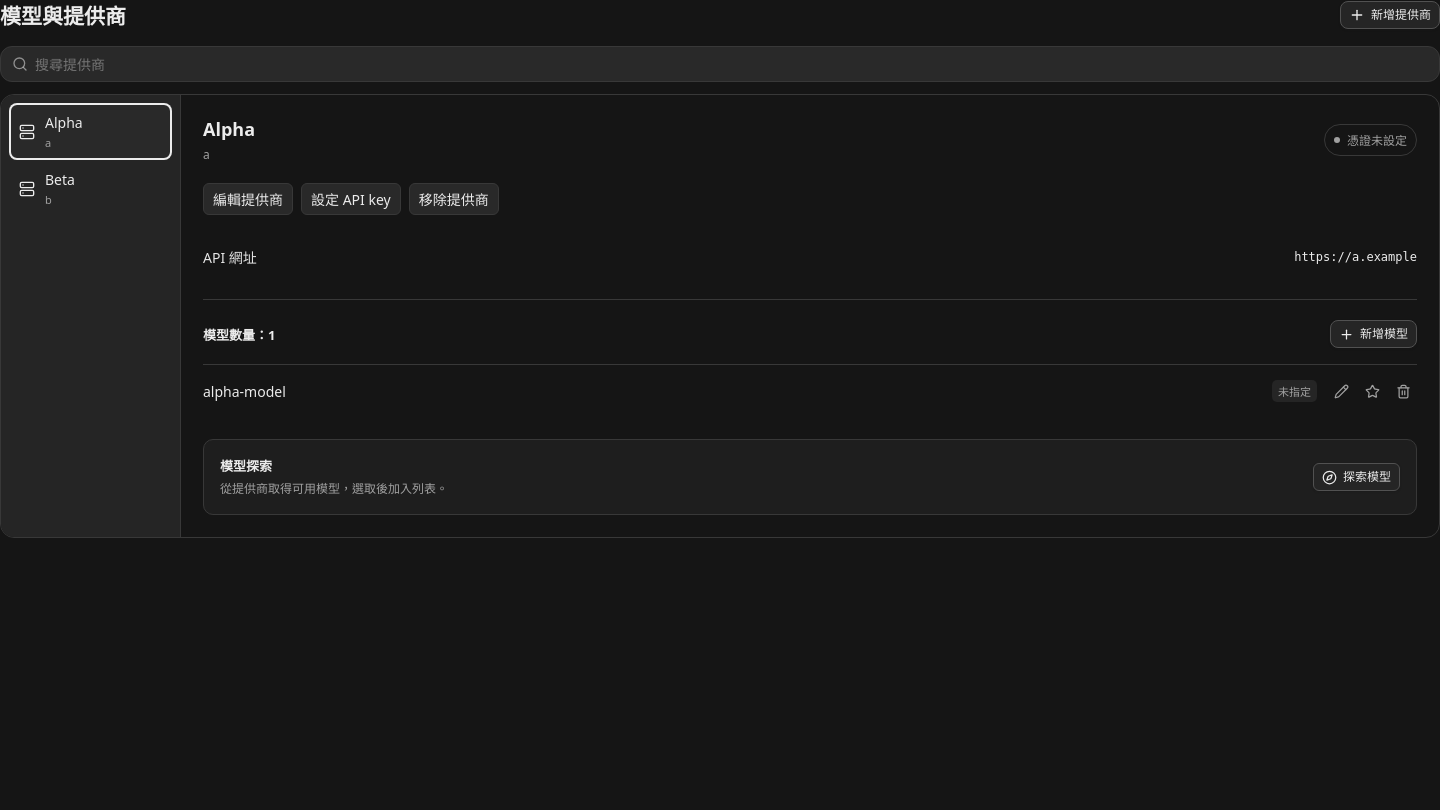
Test: shows one provider at a time and scopes connection drafts to that provider
Expected: the button "Alpha a" is shown, [9,103,172,160]
Expected: the text "beta-model" is not shown
Click the button "編輯提供商".
click(248, 199)  # box [203,183,293,215]
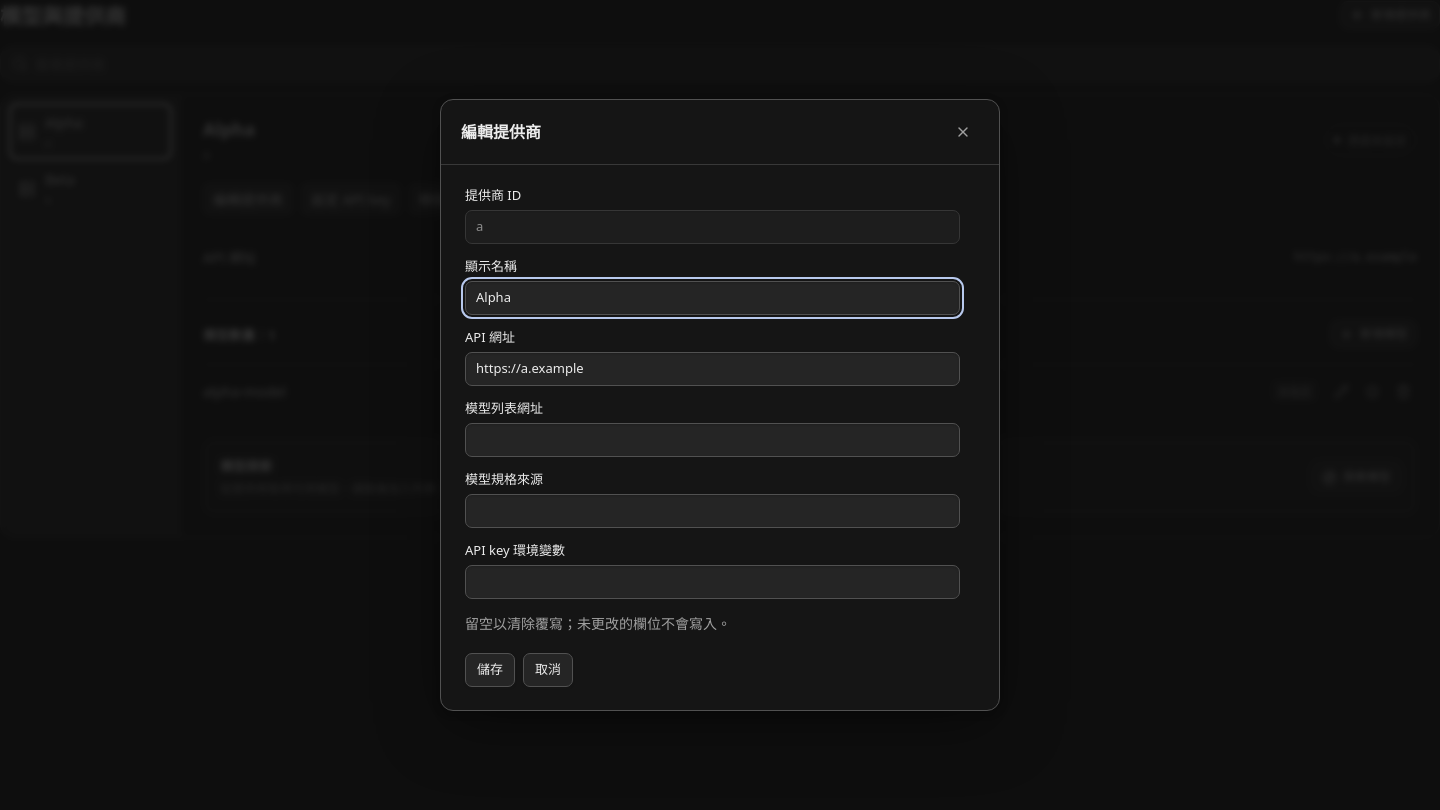
Replace the text in the field labelled "API 網址" with "https://draft.example" at (712, 368), box [465,352,960,386]
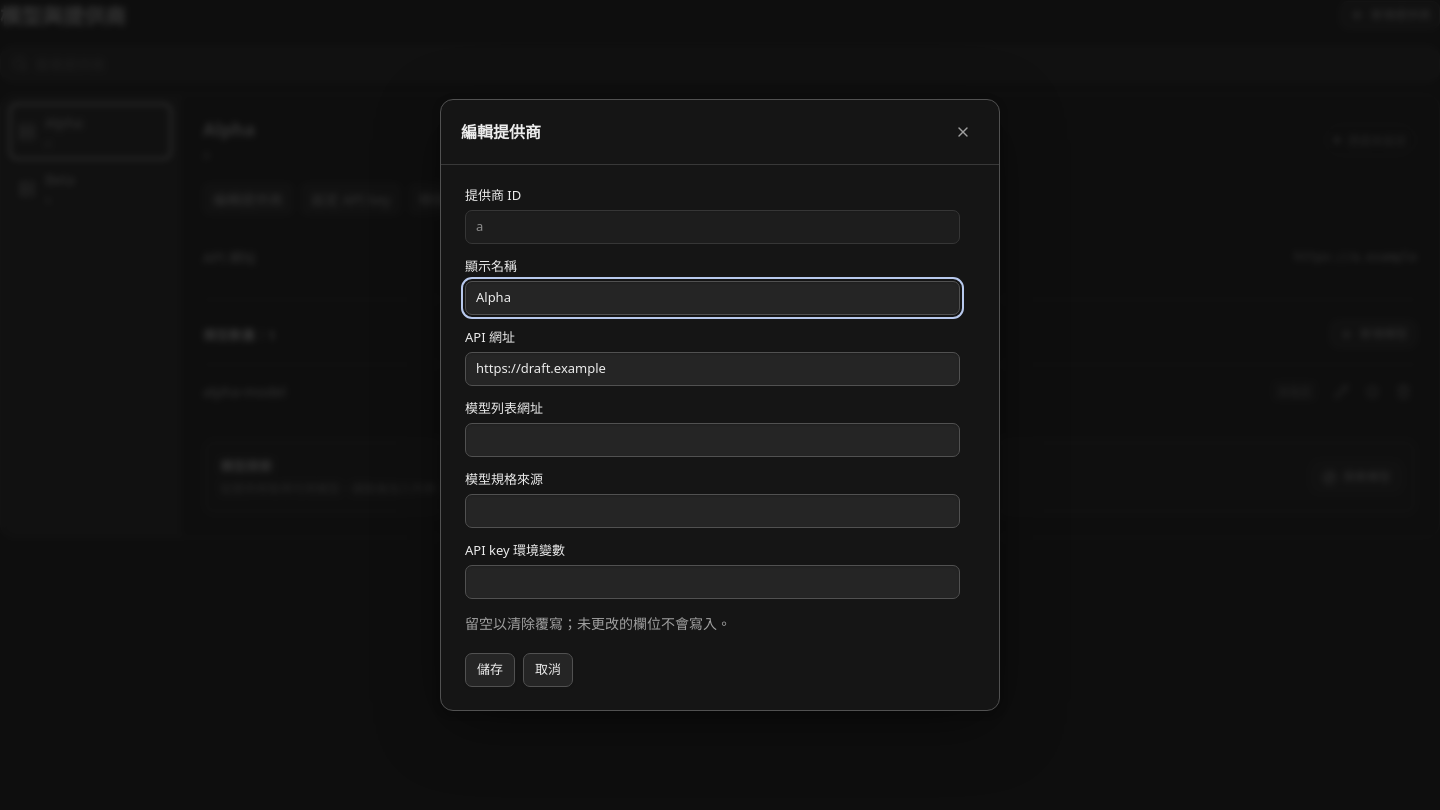
Click the button named "關閉對話框".
click(963, 132)  # box [947,116,979,148]
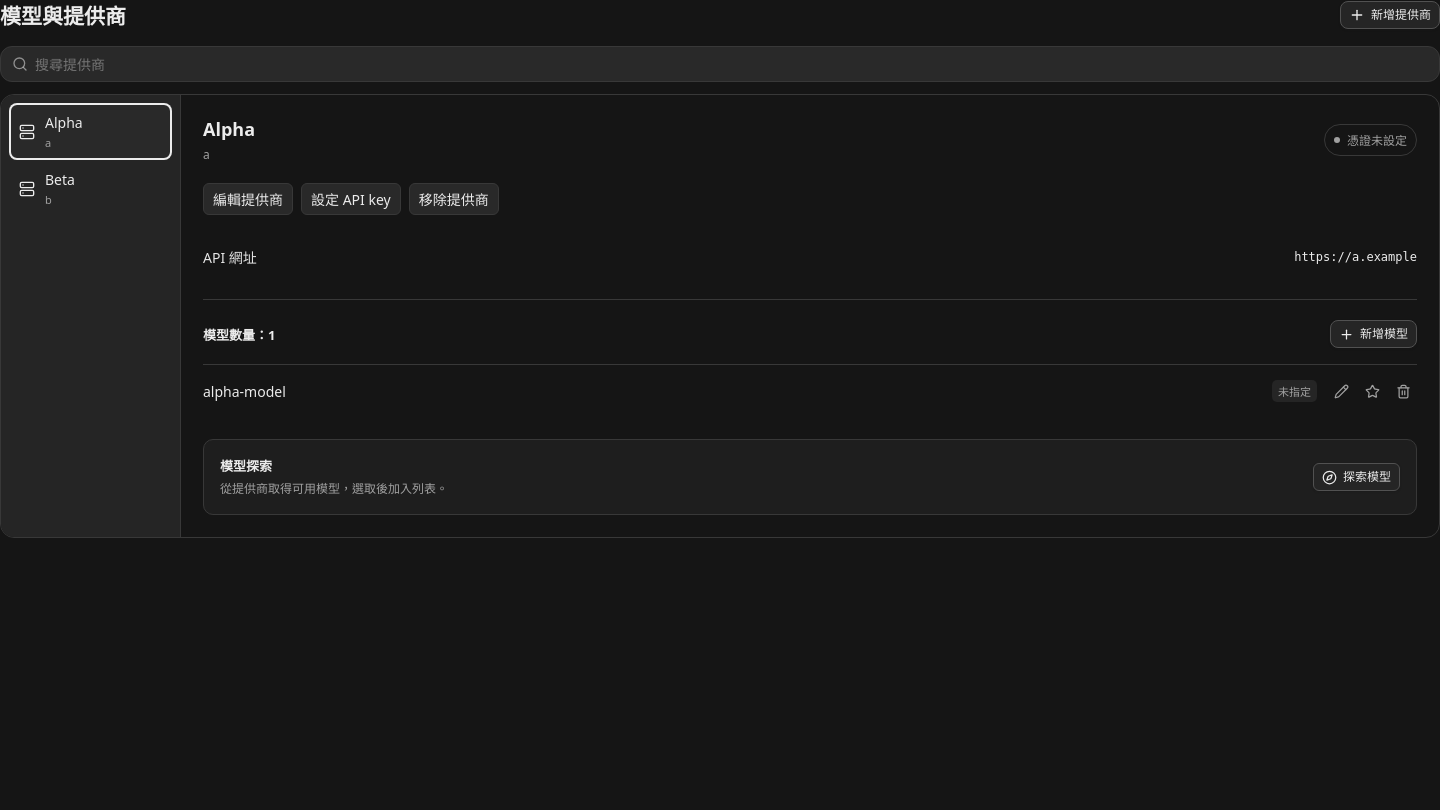
Click the button "Beta b".
click(90, 188)  # box [9,160,172,217]
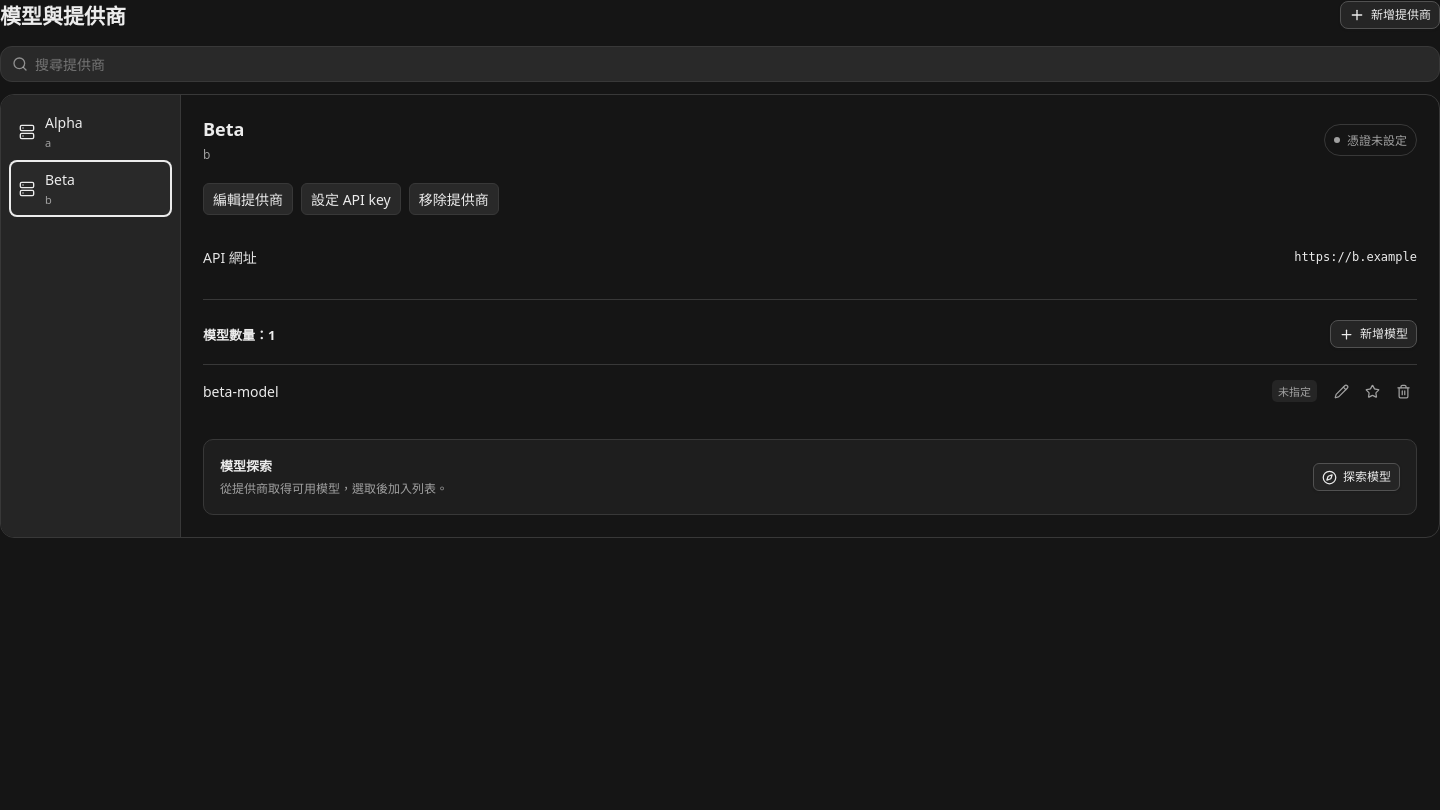
Click the button "編輯提供商".
click(248, 199)  # box [203,183,293,215]
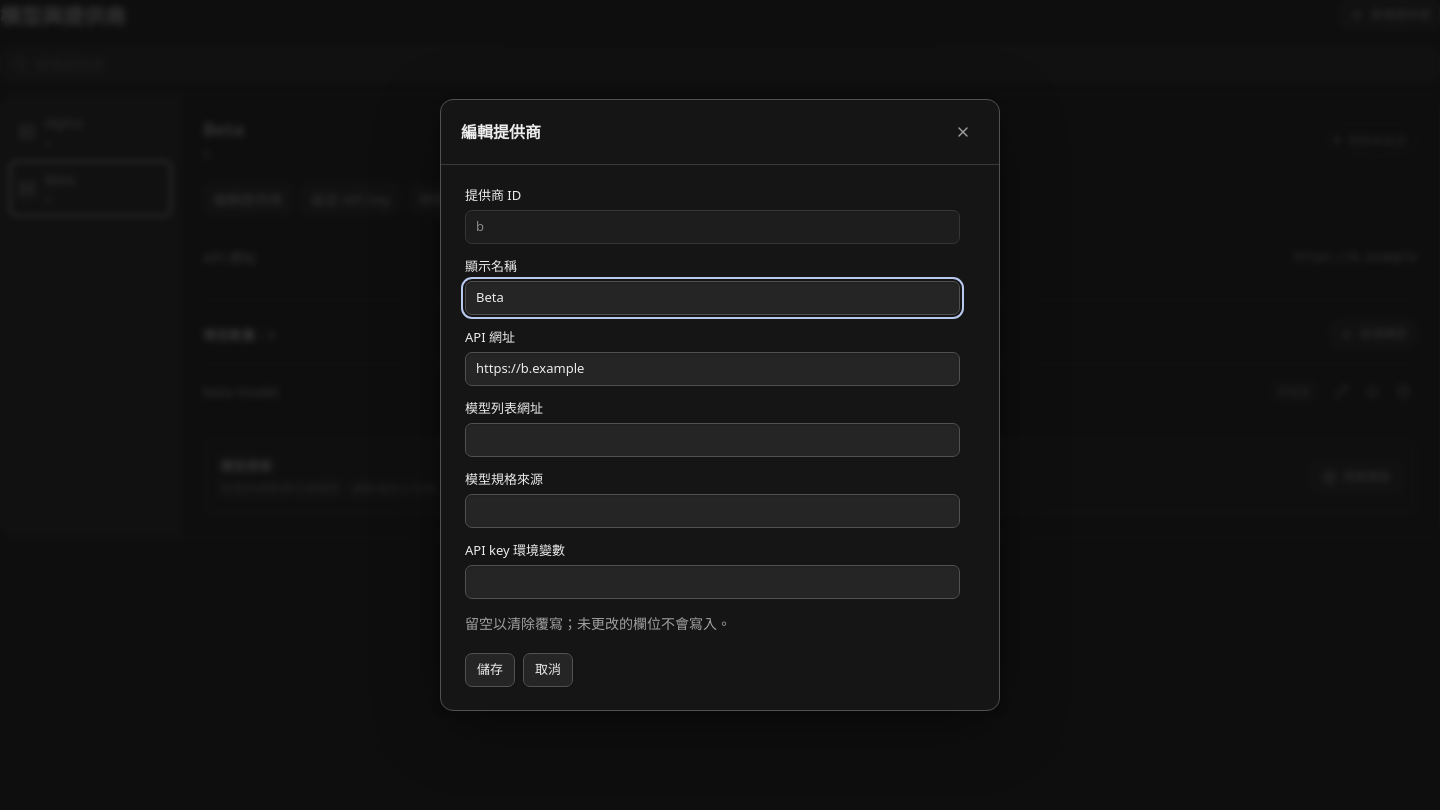
Now the field labelled "API 網址" holds "https://b.example", box [465,352,960,386]
